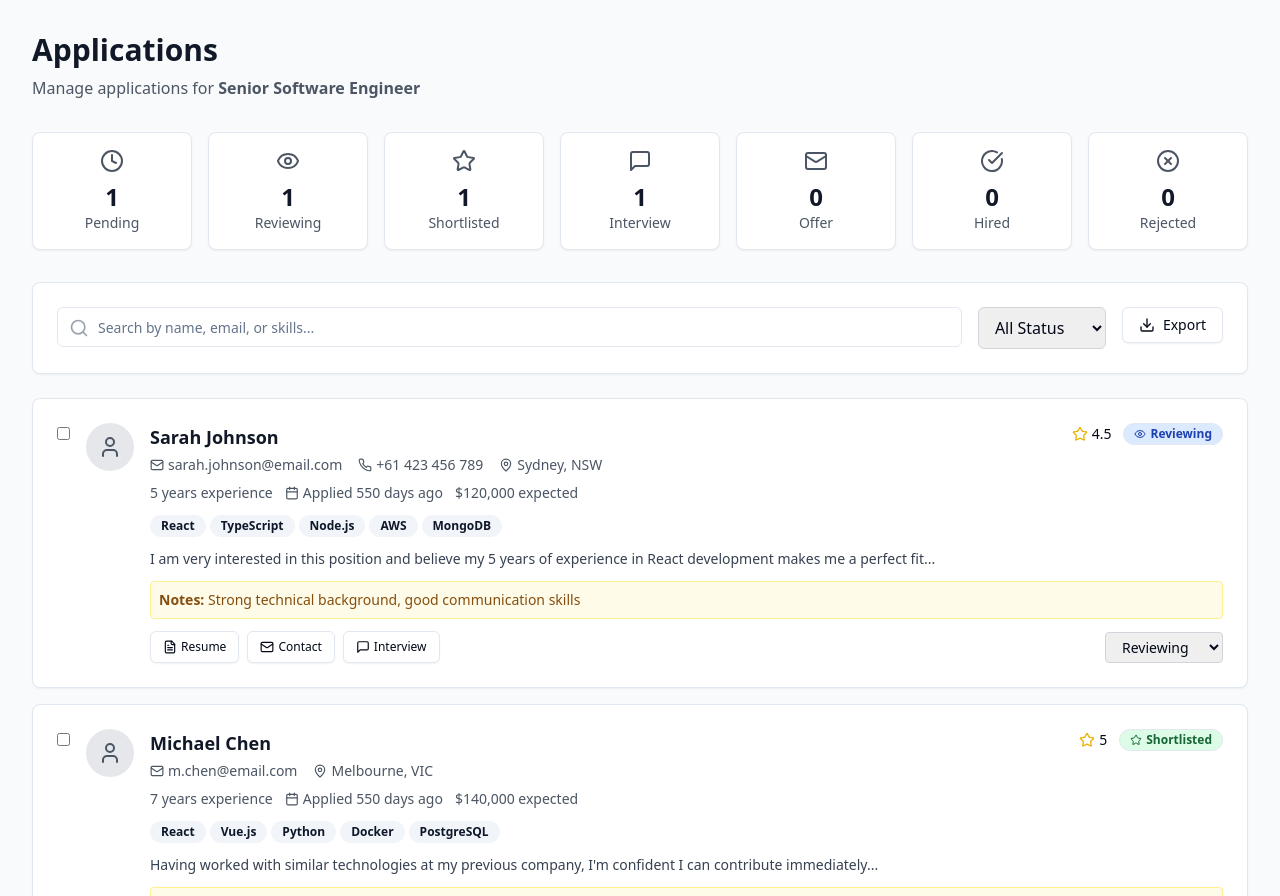
Scenario: JobApplicationsManagementPage › handles multiple application selection
The image size is (1280, 896).
Expected: the heading "Sarah Johnson" is shown, [150,425,279,449]
Note: Select multiple applications
Click the checkbox next to "Sarah Johnson".
click(64, 434)  # box [57,427,70,440]
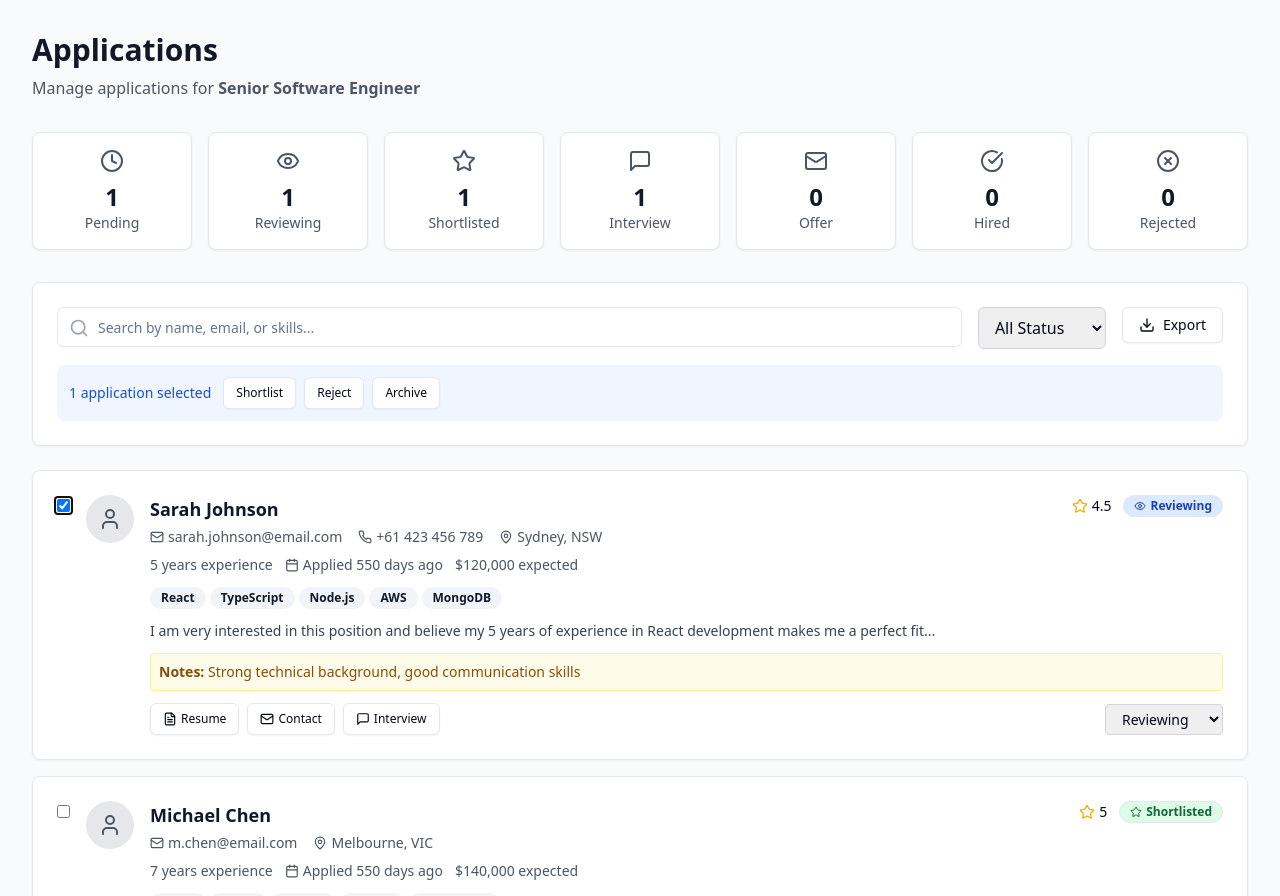
Click the checkbox next to "Michael Chen".
click(64, 812)  # box [57,805,70,818]
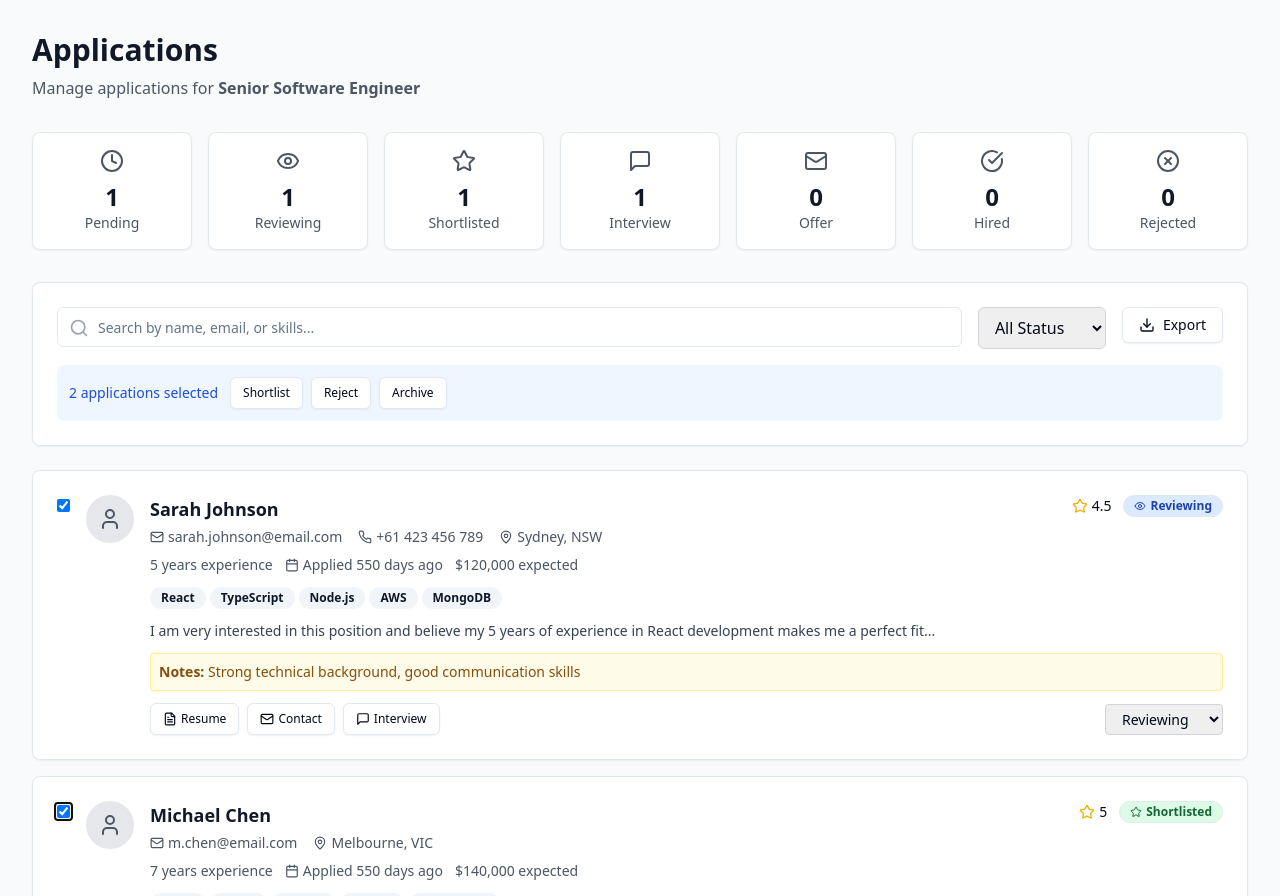
Expected: the text "2 applications selected" is shown, [69,383,218,403]
